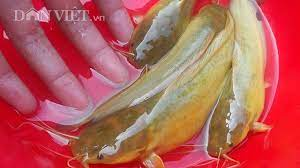fish: (76, 105, 202, 161), (218, 73, 261, 148), (129, 10, 183, 62), (191, 2, 224, 41)
